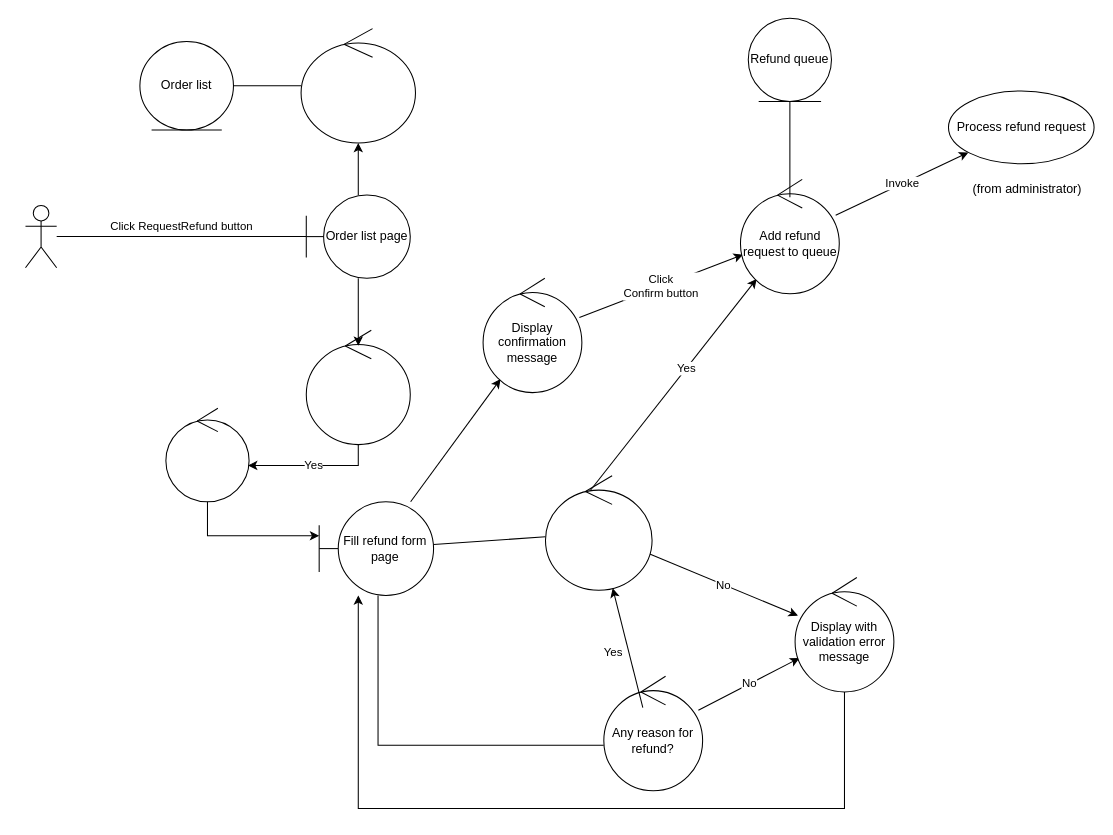
This 1113x835 diagram has some shape labels left out. The shapes that lost their labels are listed below. From the top down, each one's centre as x and y in pixels, then its label:
At point (357, 85): "Retrieve for Member".
At point (40, 236): "Member".
At point (357, 387): "Is order eligible for refund?".
At point (207, 454): "Display".
At point (598, 532): "Any description?".
